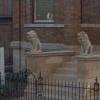Statue: (23, 23, 44, 55)
